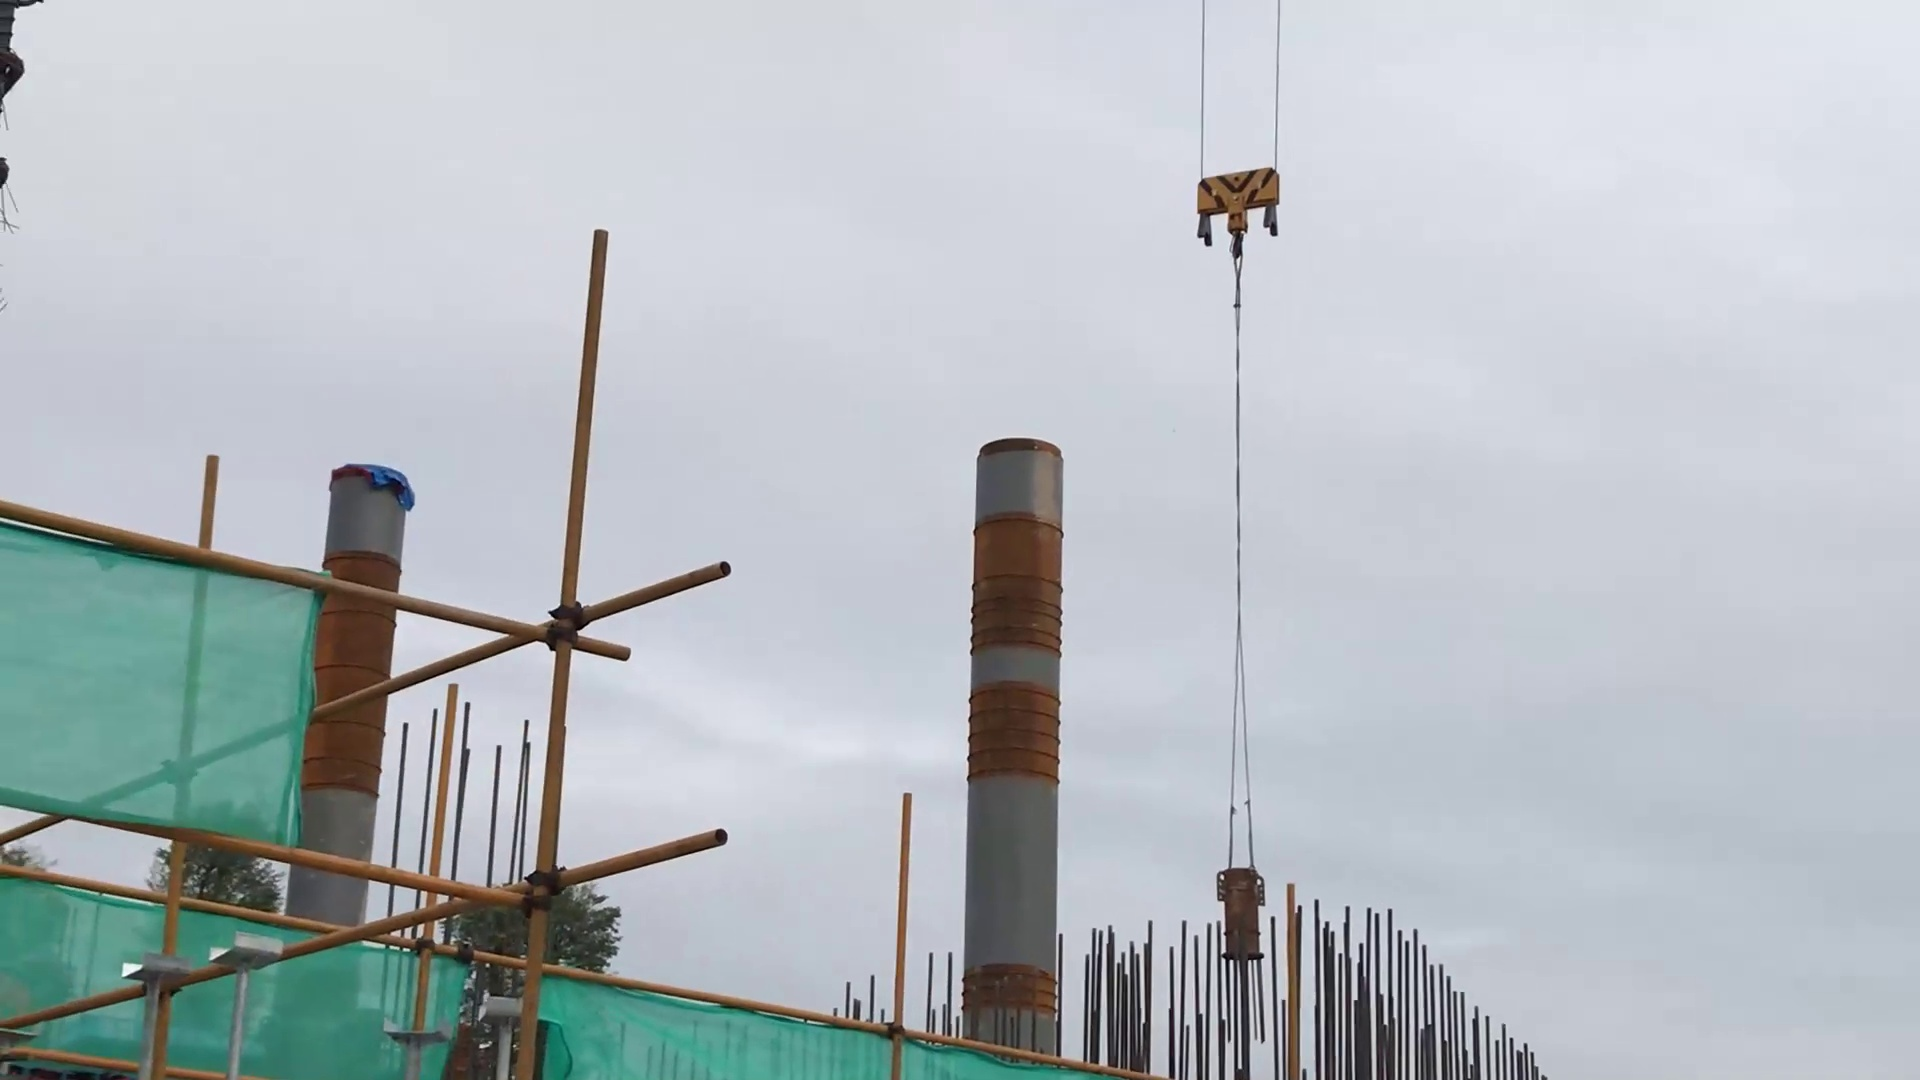hook: (1191, 164, 1282, 266)
